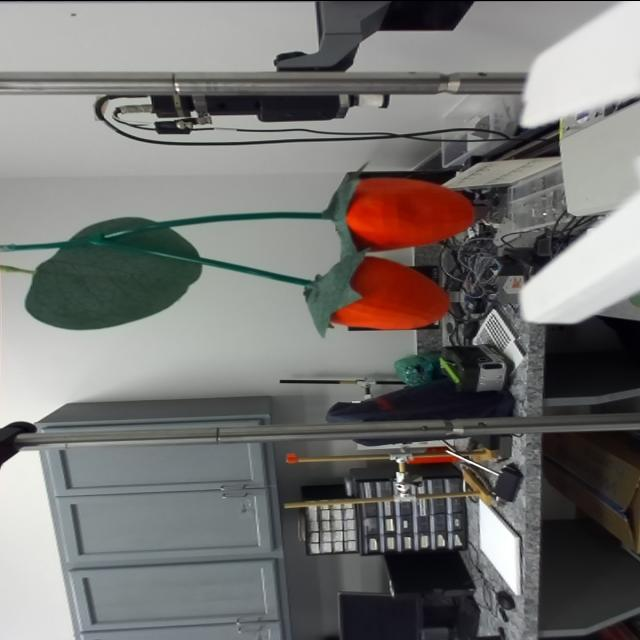Fruit-Stem-Detection: (108, 241, 310, 285), (107, 211, 321, 236)
